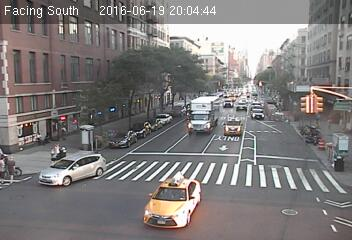neg: (52, 144, 65, 161), (92, 134, 102, 148)
pos: (1, 156, 20, 182)
